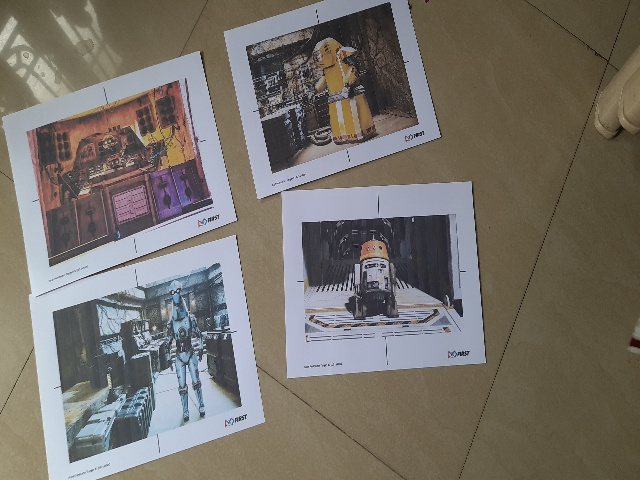fpt1: (27, 286, 263, 443)
rept1: (4, 58, 232, 248)
rept2: (288, 196, 491, 356)
rpt2: (221, 1, 437, 161)
